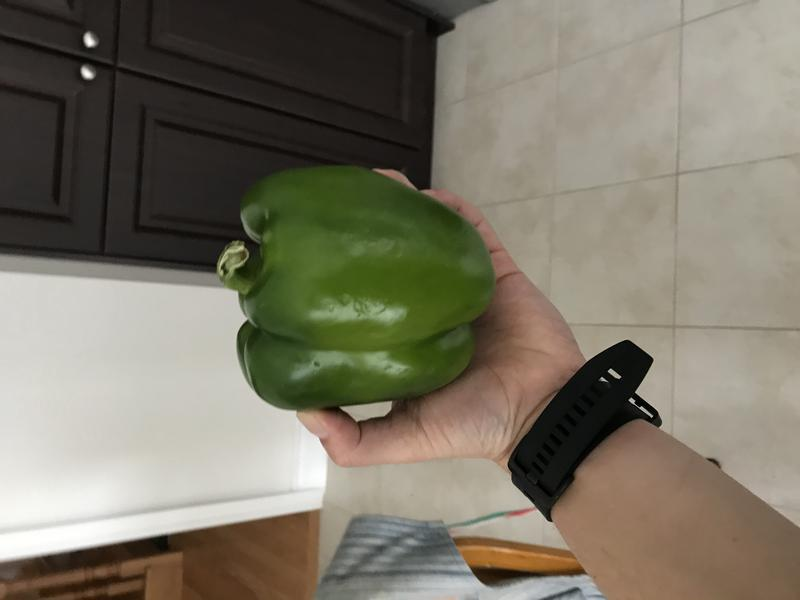green_pepper: (214, 148, 507, 428)
